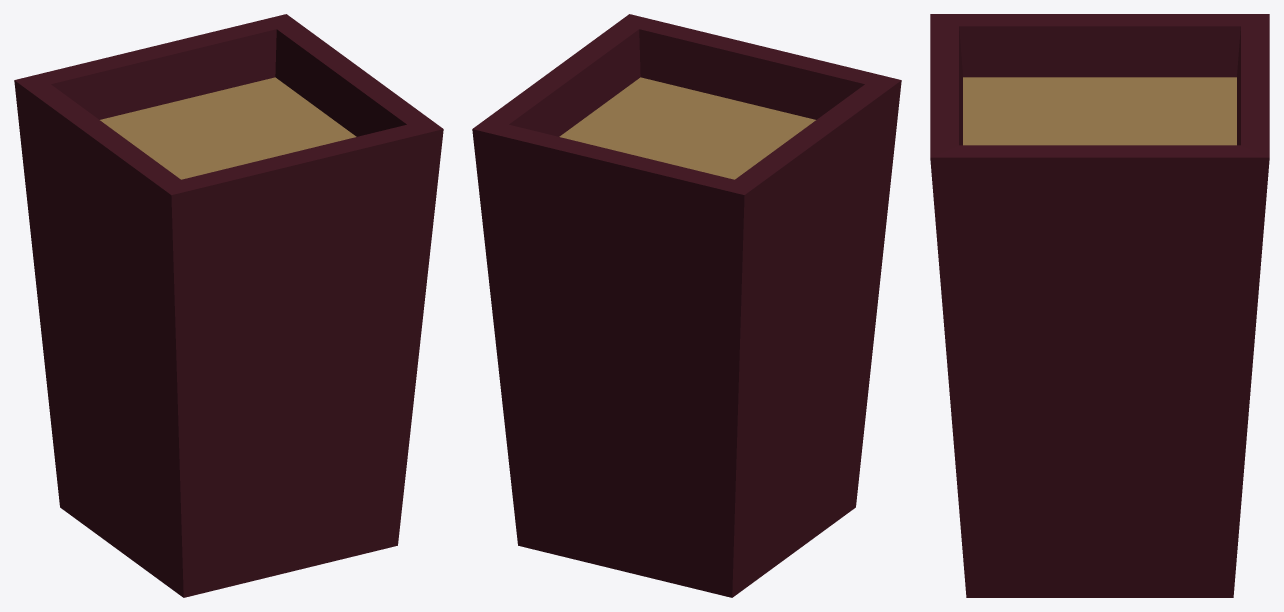
File: Itr_Obj_Flowerpot1_Base_04.FBX
3 renders of one model, left to right at view 1: azimuth 30°, elevation 25°; view 2: azimuth 150°, elevation 25°; view 3: azimuth 270°, elevation 25°, orthographic. The views are drawn at different scales.
Parts seen in each view (by area): view 1: Itr_Obj_Flowerpot1_Base_04; view 2: Itr_Obj_Flowerpot1_Base_04; view 3: Itr_Obj_Flowerpot1_Base_04.
Boxes of the visible parts, bbox=[...] form: Itr_Obj_Flowerpot1_Base_04: bbox=[14, 14, 443, 597]; Itr_Obj_Flowerpot1_Base_04: bbox=[472, 14, 901, 597]; Itr_Obj_Flowerpot1_Base_04: bbox=[930, 14, 1269, 597].
Bounding box in the file's own units: 18.75 × 27.77 × 18.75.
